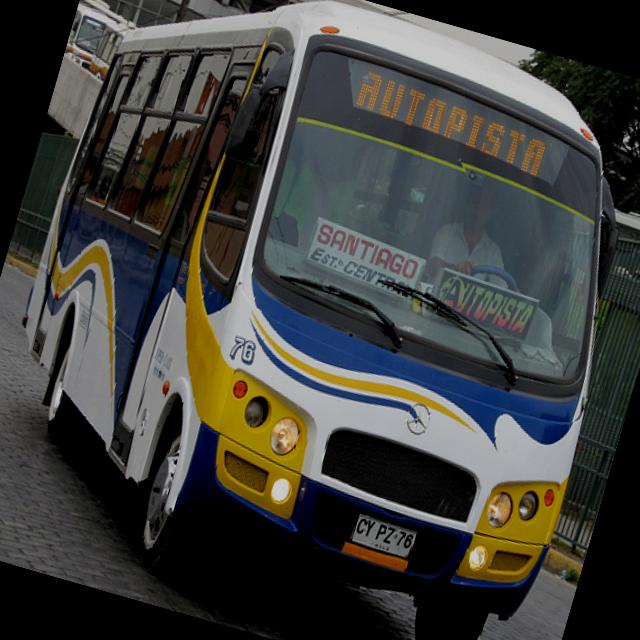Vehicle: (0, 0, 640, 640), (67, 0, 147, 59), (62, 0, 120, 70), (85, 16, 132, 84)
